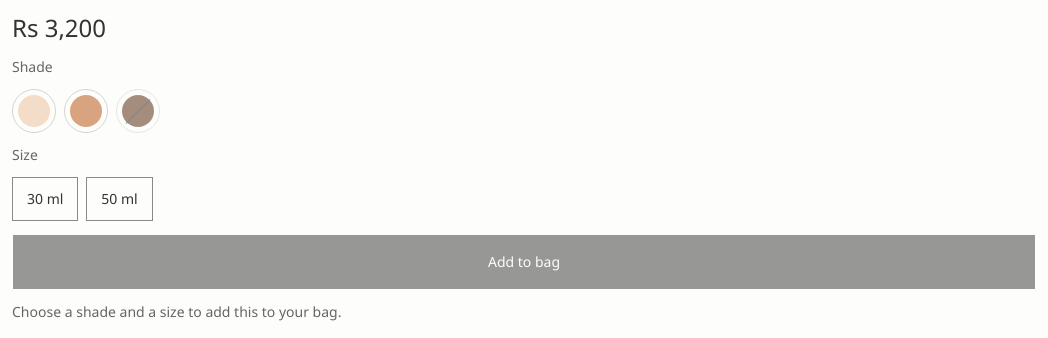
Scenario: VariantPicker, for a product with shades › shows the variant's own price once the selection resolves
Expected: the text "Rs 3,200" is shown, [12, 11, 106, 44]
Click the radio button named "Warm Beige" at (86, 111), box [64, 89, 108, 133]
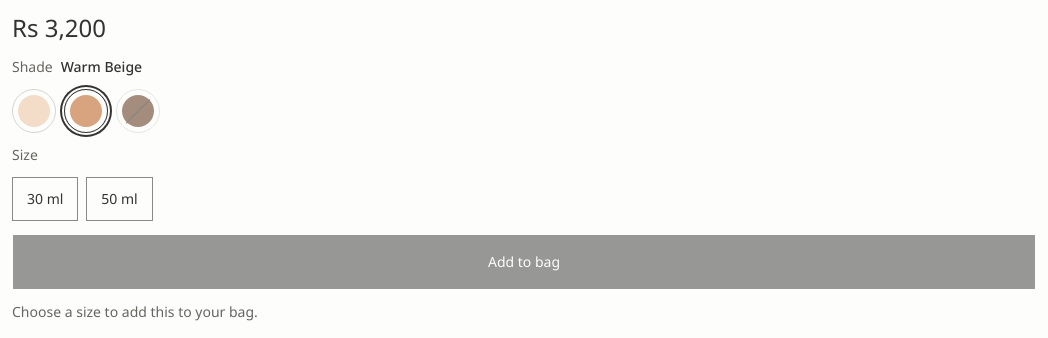
Click the radio button labelled "50 ml" at (120, 199), box [86, 177, 153, 221]
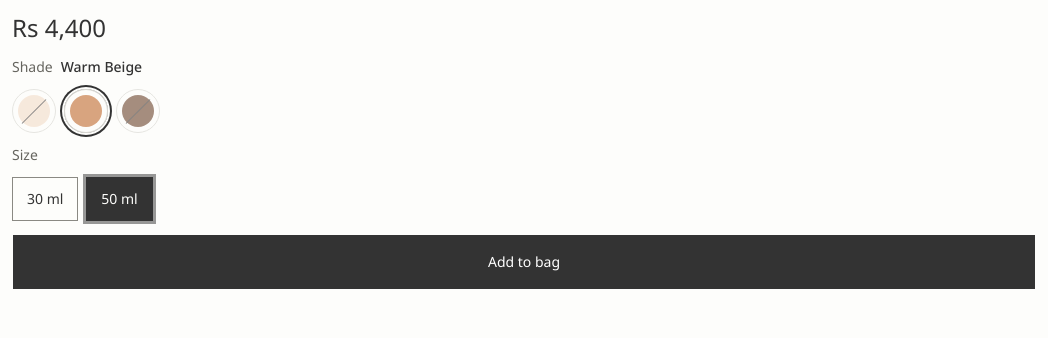
Now the text "Rs 4,400" is shown, box [12, 11, 106, 44]
